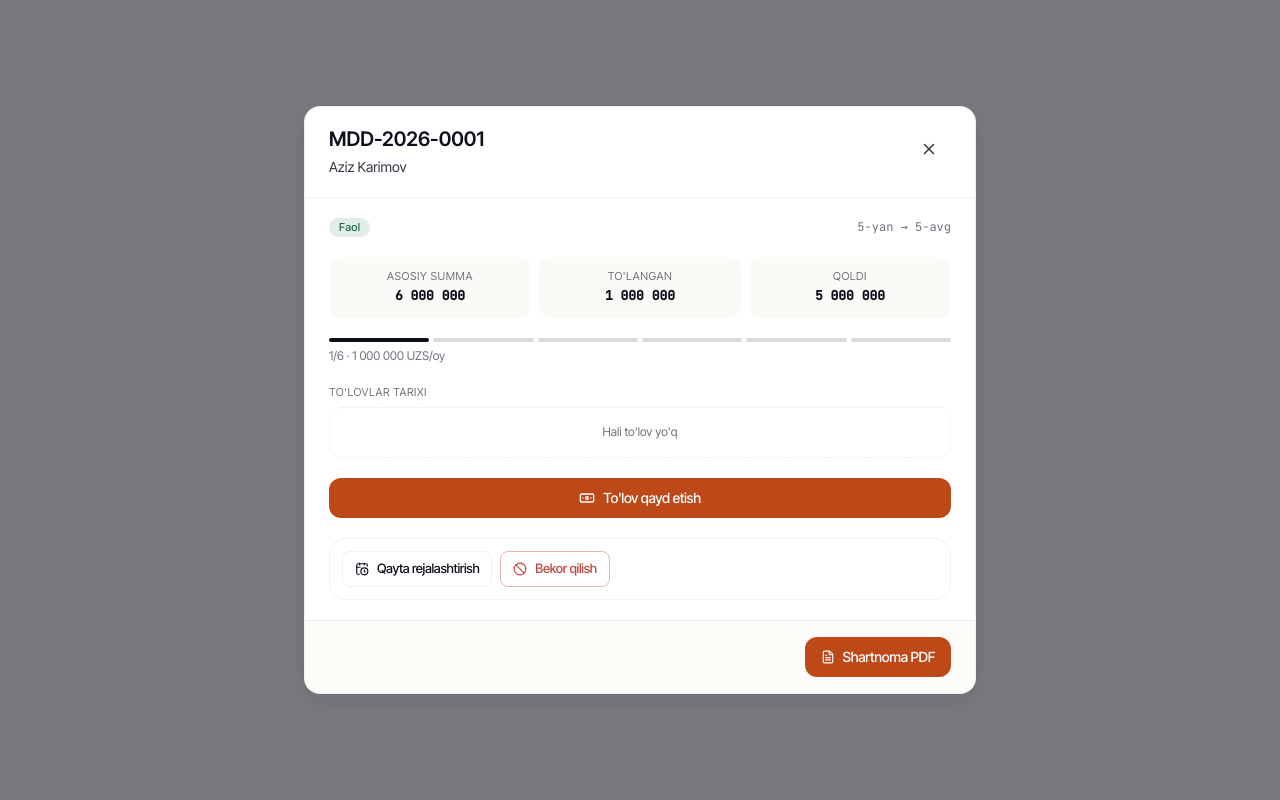
Test: reschedule form — validation is disabled, not busy › the Save button is disabled but not aria-busy with the untouched defaults
Click the button "Qayta rejalashtirish" at (417, 569), box [342,551,492,587]
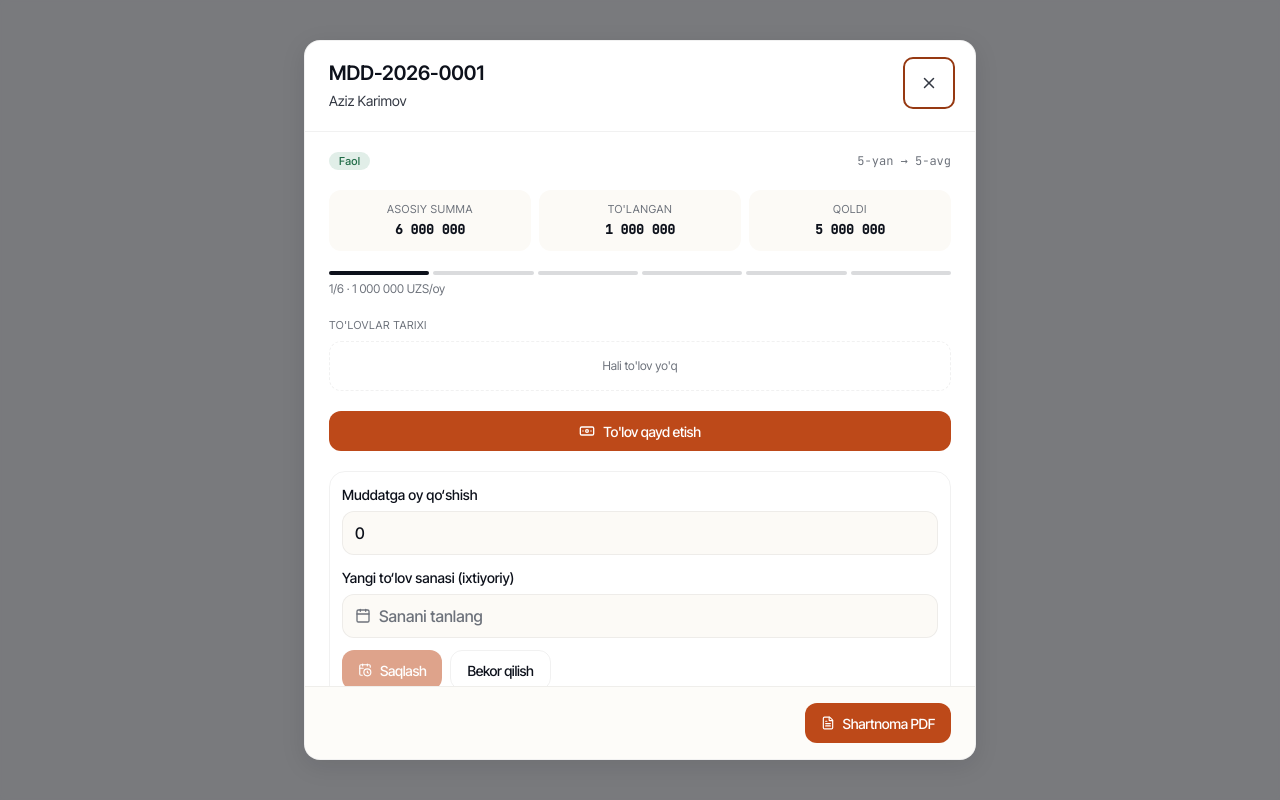
Expected: the button "Saqlash" is disabled, [342,650,442,686]
